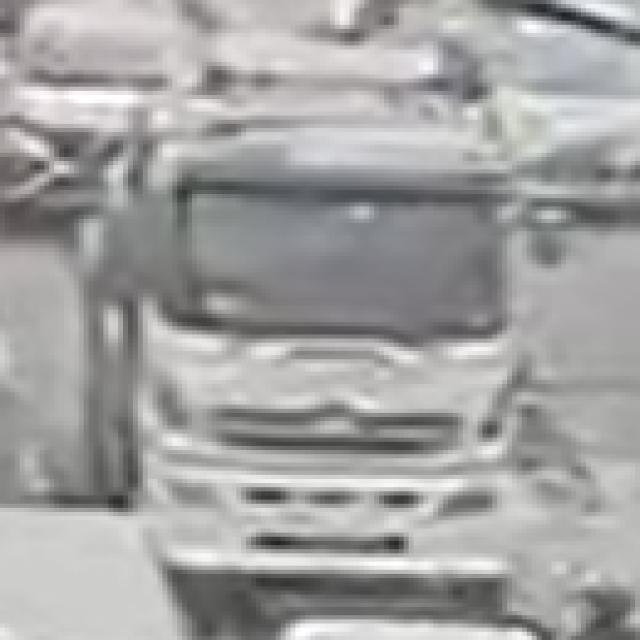Truck: (99, 44, 574, 608)
